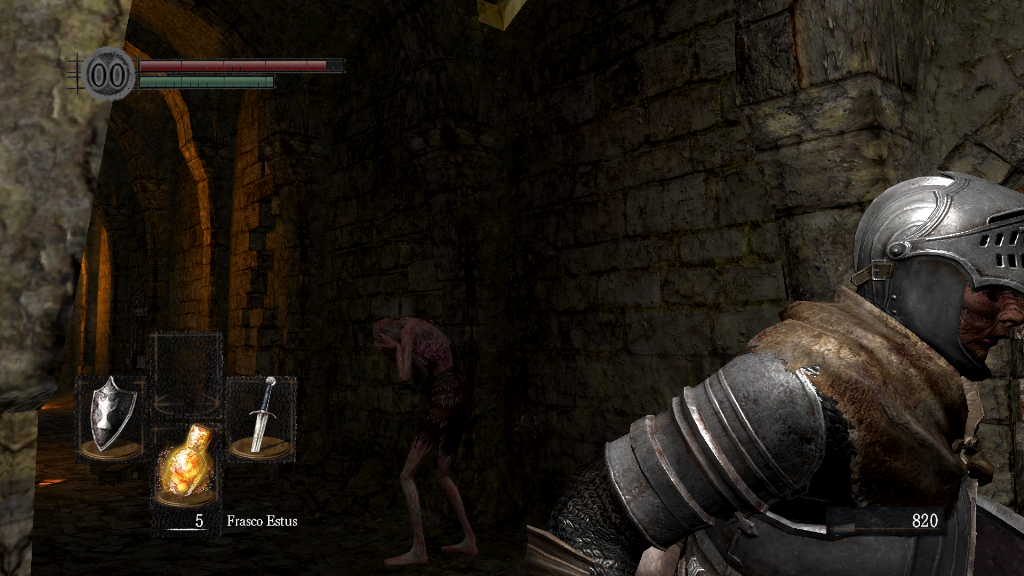health: (138, 58, 343, 71)
hollow: (368, 315, 478, 565)
humanity: (80, 45, 136, 102)
player: (525, 169, 1024, 575)
souls: (825, 506, 945, 536)
stamina: (138, 74, 274, 88)
